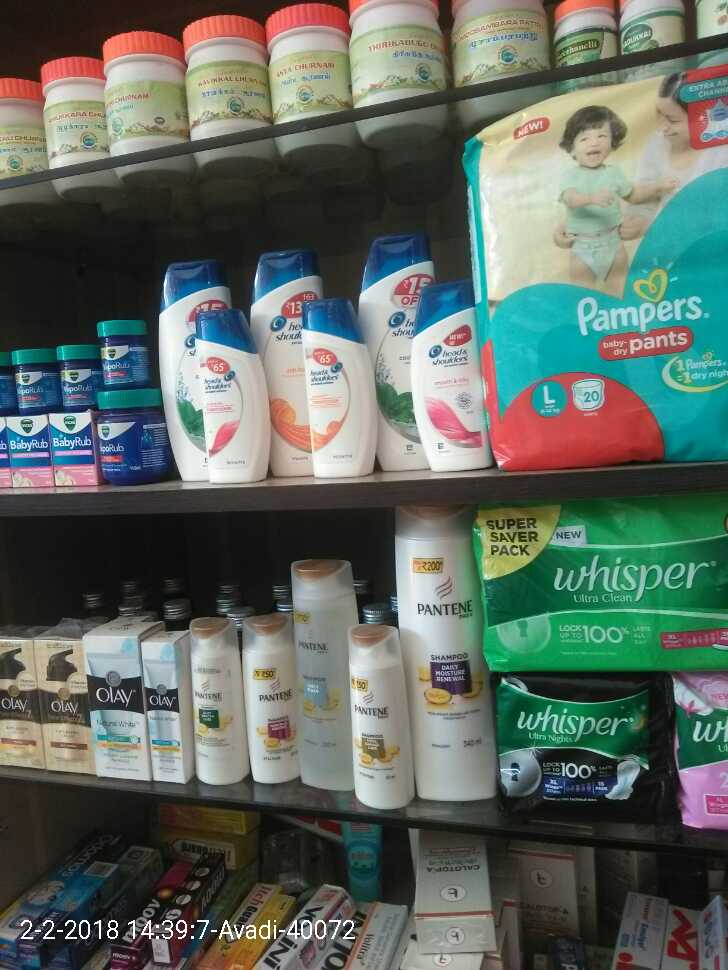vicks: (99, 385, 164, 487), (12, 414, 53, 492), (53, 414, 97, 486), (98, 319, 144, 383), (55, 340, 93, 407), (12, 349, 54, 407)
